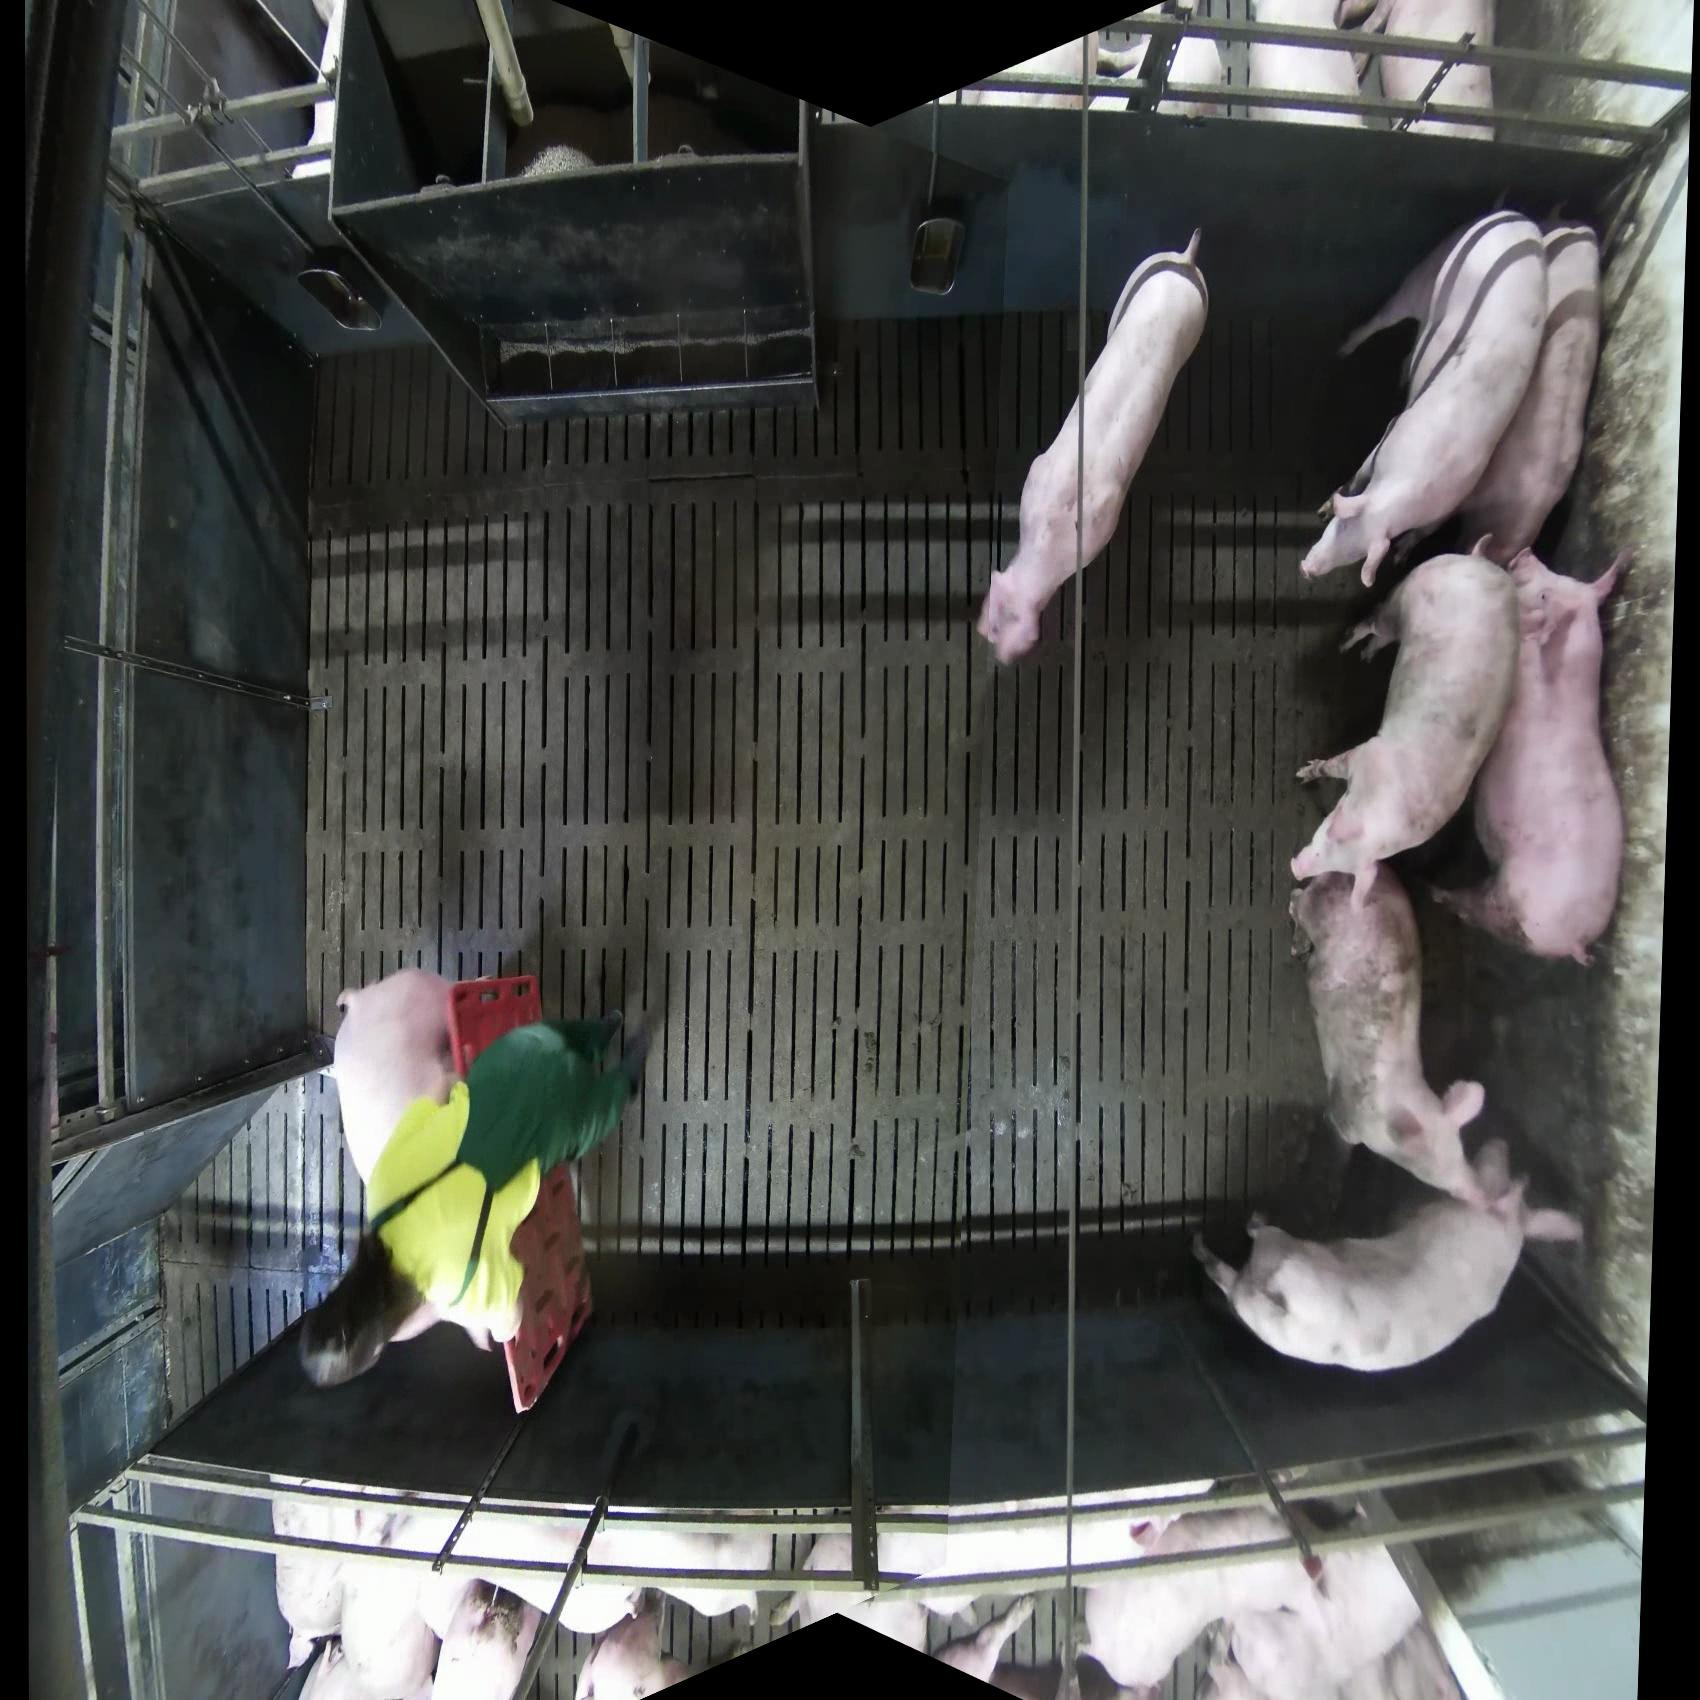pig: (257, 923, 517, 1384), (976, 225, 1211, 667), (1299, 208, 1549, 589), (1191, 1139, 1584, 1374), (1426, 542, 1638, 970), (1289, 541, 1521, 903), (1287, 860, 1494, 1218), (1078, 1495, 1426, 1699), (1451, 220, 1607, 568), (1335, 207, 1546, 403), (783, 1526, 1039, 1686), (270, 1493, 437, 1700), (1170, 1, 1376, 129), (1336, 1, 1498, 142), (574, 1587, 755, 1699), (421, 1576, 547, 1700), (928, 1592, 1039, 1684)
worker: (295, 963, 656, 1393)
